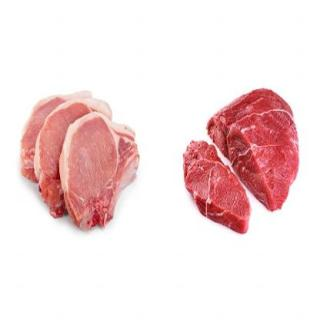Daging Sapi: (184, 89, 301, 235), (21, 93, 140, 229), (207, 89, 300, 211), (62, 116, 142, 232), (183, 140, 252, 235)
